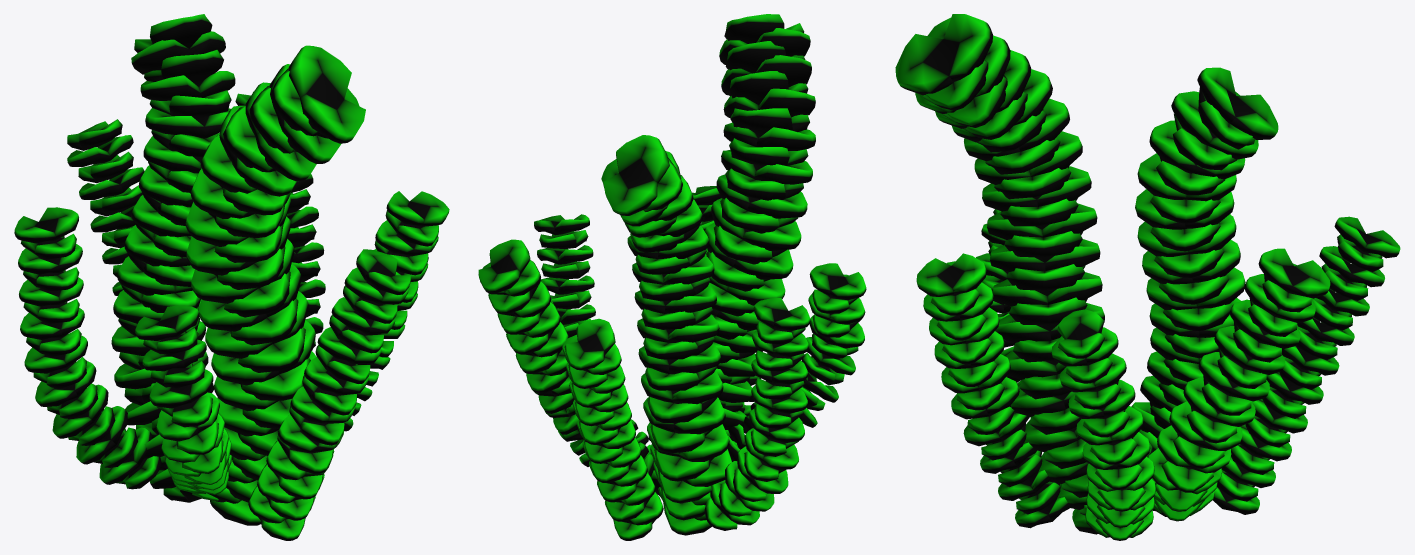
The picture shows the model from 3 angles, left to right: view 1: azimuth 30°, elevation 25°; view 2: azimuth 150°, elevation 25°; view 3: azimuth 270°, elevation 25°; orthographic projection. The views are drawn at different scales.
Visible parts, largest first — view 1: 贝塞尔曲线.018; view 2: 贝塞尔曲线.018; view 3: 贝塞尔曲线.018.
Part boxes in pixels (<box>): 贝塞尔曲线.018: <box>14,14,449,540</box>; 贝塞尔曲线.018: <box>478,14,866,540</box>; 贝塞尔曲线.018: <box>895,14,1400,540</box>.
Bounding box in the file's own units: 0.1268 × 0.1685 × 0.152.
